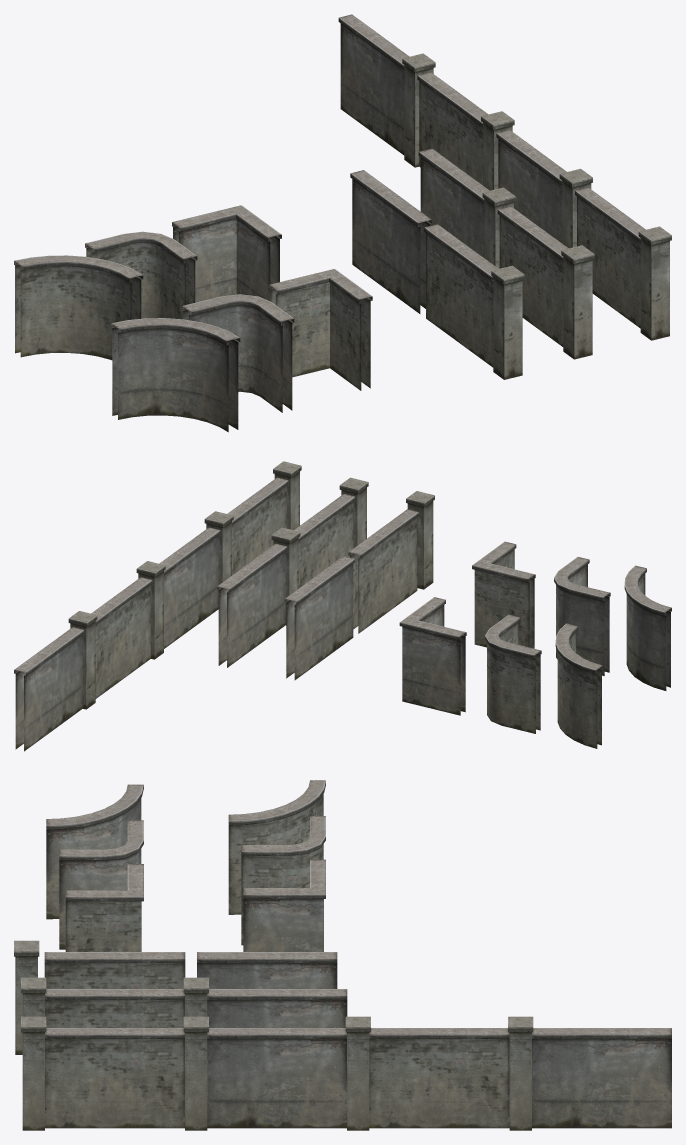
Rendered from Concrete_fence_v1.FBX.
3 views of the same model, one above another, from view 1: azimuth 30°, elevation 25°; view 2: azimuth 150°, elevation 25°; view 3: azimuth 270°, elevation 25° (orthographic). The views are drawn at different scales.
Parts seen in each view (by area): view 1: Concrete_fence_v1_wall_set_v2, Concrete_fence_v1_wall_set_v1, Concrete_fence_v1_c4, Concrete_fence_v1_c3, Concrete_fence_v1_L2, Concrete_fence_v1_s1, Concrete_fence_v1_L1, Concrete_fence_v1_s2, Concrete_fence_v1_c2, Concrete_fence_v1_c1, Concrete_fence_v1_column; view 2: Concrete_fence_v1_wall_set_v2, Concrete_fence_v1_wall_set_v1, Concrete_fence_v1_L1, Concrete_fence_v1_s1, Concrete_fence_v1_s2, Concrete_fence_v1_c1, Concrete_fence_v1_L2, Concrete_fence_v1_c4, Concrete_fence_v1_c3, Concrete_fence_v1_c2, Concrete_fence_v1_column; view 3: Concrete_fence_v1_wall_set_v2, Concrete_fence_v1_wall_set_v1, Concrete_fence_v1_L1, Concrete_fence_v1_L2, Concrete_fence_v1_s2, Concrete_fence_v1_s1, Concrete_fence_v1_c4, Concrete_fence_v1_c3, Concrete_fence_v1_c2, Concrete_fence_v1_c1, Concrete_fence_v1_column.
Boxes of the visible parts, bbox=[...] form: Concrete_fence_v1_wall_set_v2: bbox=[338, 14, 671, 340]; Concrete_fence_v1_wall_set_v1: bbox=[418, 148, 594, 359]; Concrete_fence_v1_c4: bbox=[111, 318, 240, 432]; Concrete_fence_v1_c3: bbox=[14, 255, 143, 360]; Concrete_fence_v1_L2: bbox=[269, 269, 372, 390]; Concrete_fence_v1_s1: bbox=[350, 170, 431, 313]; Concrete_fence_v1_L1: bbox=[172, 205, 281, 302]; Concrete_fence_v1_s2: bbox=[424, 224, 498, 367]; Concrete_fence_v1_c2: bbox=[182, 294, 294, 412]; Concrete_fence_v1_c1: bbox=[85, 231, 197, 319]; Concrete_fence_v1_column: bbox=[491, 265, 524, 379]; Concrete_fence_v1_wall_set_v2: bbox=[14, 461, 301, 751]; Concrete_fence_v1_wall_set_v1: bbox=[217, 477, 368, 667]; Concrete_fence_v1_L1: bbox=[399, 597, 466, 715]; Concrete_fence_v1_s1: bbox=[284, 556, 355, 680]; Concrete_fence_v1_s2: bbox=[348, 509, 418, 633]; Concrete_fence_v1_c1: bbox=[485, 614, 541, 733]; Concrete_fence_v1_L2: bbox=[472, 541, 535, 648]; Concrete_fence_v1_c4: bbox=[624, 565, 671, 690]; Concrete_fence_v1_c3: bbox=[555, 623, 602, 748]; Concrete_fence_v1_c2: bbox=[554, 557, 610, 675]; Concrete_fence_v1_column: bbox=[406, 491, 434, 589]; Concrete_fence_v1_wall_set_v2: bbox=[21, 1016, 671, 1130]; Concrete_fence_v1_wall_set_v1: bbox=[21, 977, 347, 1027]; Concrete_fence_v1_L1: bbox=[243, 859, 325, 951]; Concrete_fence_v1_L2: bbox=[65, 864, 143, 951]; Concrete_fence_v1_s2: bbox=[44, 952, 185, 988]; Concrete_fence_v1_s1: bbox=[197, 952, 337, 988]; Concrete_fence_v1_c4: bbox=[46, 784, 143, 919]; Concrete_fence_v1_c3: bbox=[228, 780, 325, 914]; Concrete_fence_v1_c2: bbox=[59, 820, 143, 949]; Concrete_fence_v1_c1: bbox=[241, 816, 325, 945]; Concrete_fence_v1_column: bbox=[14, 940, 39, 1054].
Bounding box in the file's own units: 17.41 × 3.3 × 18.88.
